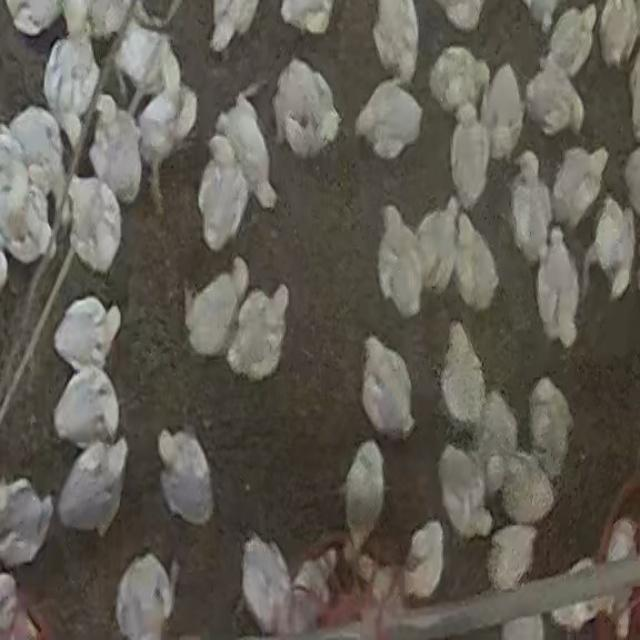chicken: (134, 78, 200, 206), (182, 253, 251, 365), (351, 332, 422, 436), (56, 437, 128, 538), (271, 59, 341, 162), (193, 133, 251, 250), (240, 532, 304, 638), (226, 282, 290, 384), (335, 439, 392, 553), (112, 20, 178, 117), (52, 364, 123, 453), (64, 174, 125, 277), (43, 35, 102, 141), (355, 78, 426, 164), (7, 105, 68, 205), (88, 97, 143, 207), (375, 204, 426, 322), (438, 320, 488, 439), (157, 428, 216, 528), (437, 444, 494, 543), (535, 228, 581, 350), (584, 194, 634, 304), (550, 144, 609, 237), (52, 296, 120, 376), (115, 551, 176, 640), (452, 210, 501, 315), (526, 57, 588, 139), (0, 476, 55, 568), (527, 378, 575, 482), (509, 152, 552, 264), (479, 64, 526, 164), (427, 46, 488, 116), (369, 1, 421, 83), (542, 4, 598, 80), (418, 201, 462, 297), (498, 450, 552, 528), (449, 108, 490, 210), (477, 390, 519, 482), (404, 518, 448, 604), (486, 522, 539, 592)
